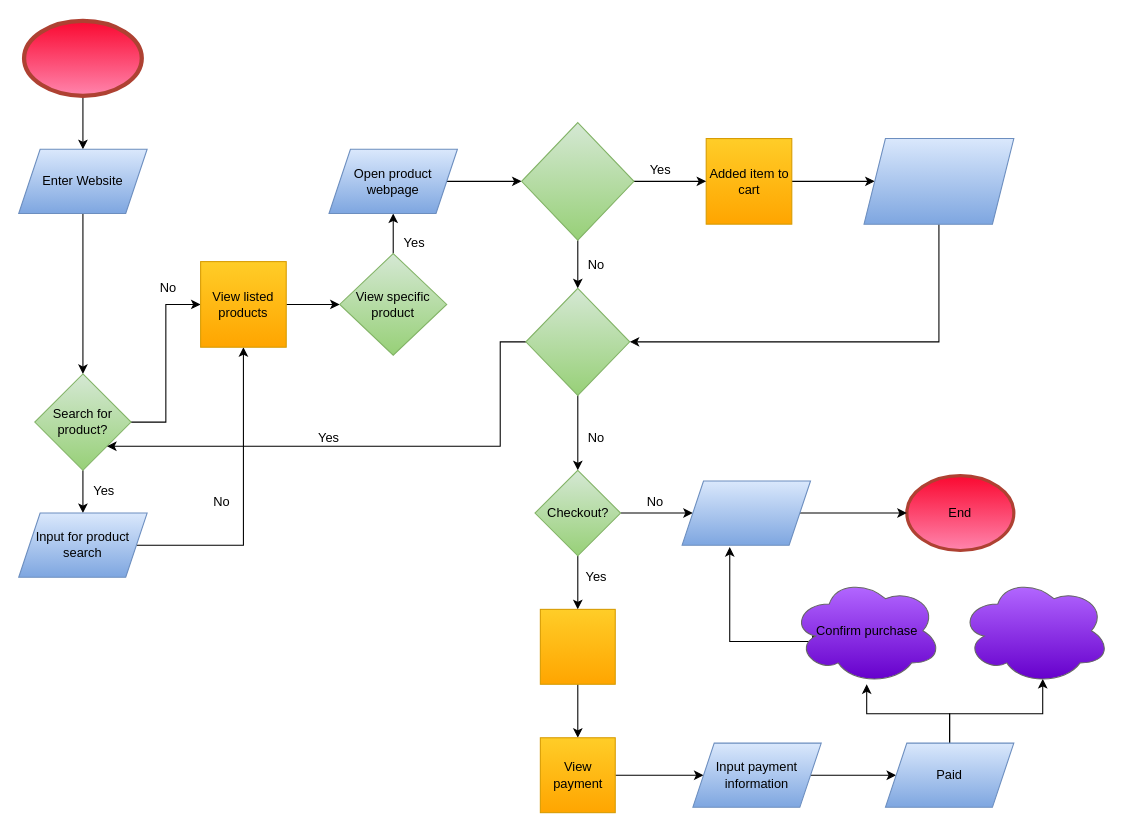
The diagram is 1129 pixels wide and 831 high, and some of its shapes have lost their labels. The shapes that lost their labels are listed below. From the top down, each one's box as (x1, y1, x2, y2) in pixels, then its label:
(21, 18, 143, 97): Start
(521, 121, 634, 240): Add item to cart?
(863, 137, 1014, 224): Notify that item was added to cart
(525, 287, 630, 395): Continue Shopping
(681, 480, 811, 545): Exit site
(539, 608, 615, 684): View cart
(959, 576, 1110, 684): Email confirmation of purchase
